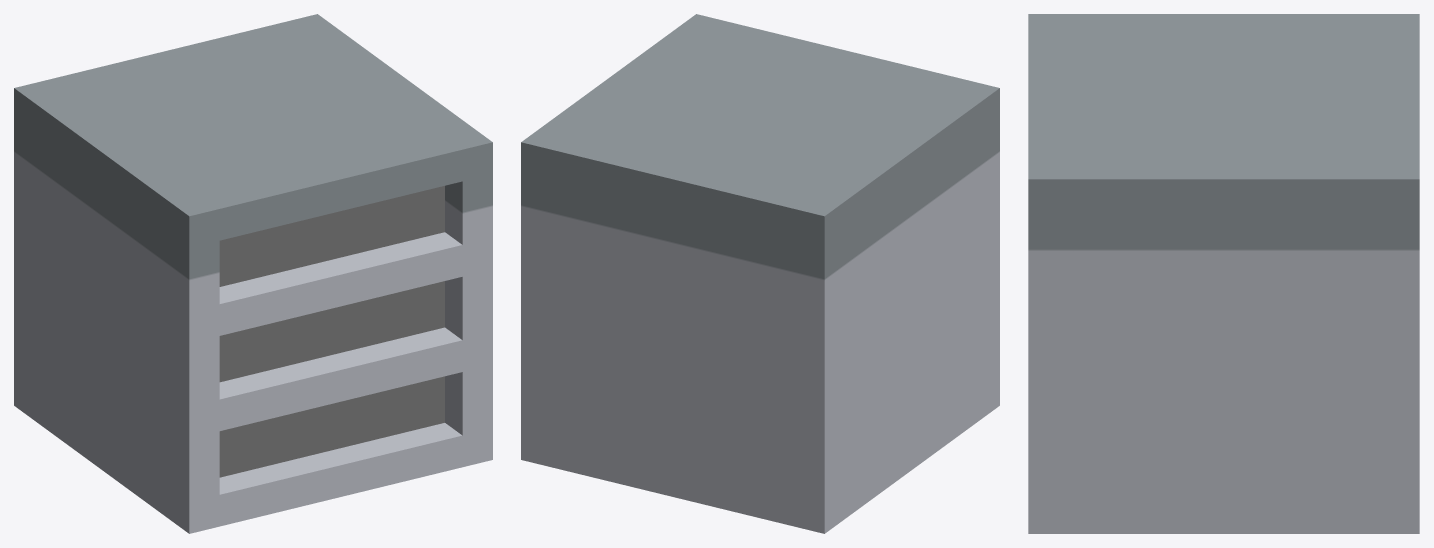
Rendered from A3D_sample_ladder_top.fbx.
3 views of the same model, side by side, from view 1: azimuth 30°, elevation 25°; view 2: azimuth 150°, elevation 25°; view 3: azimuth 270°, elevation 25° (orthographic). The views are drawn at different scales.
Parts seen in each view (by area): view 1: castle_ladder_top; view 2: castle_ladder_top; view 3: castle_ladder_top.
Boxes of the visible parts, left/top/right/bottom form: castle_ladder_top: left=14, top=14, right=492, bottom=533; castle_ladder_top: left=521, top=14, right=999, bottom=533; castle_ladder_top: left=1028, top=14, right=1419, bottom=533.
Size of the model in its own units: 10 by 10 by 10.
